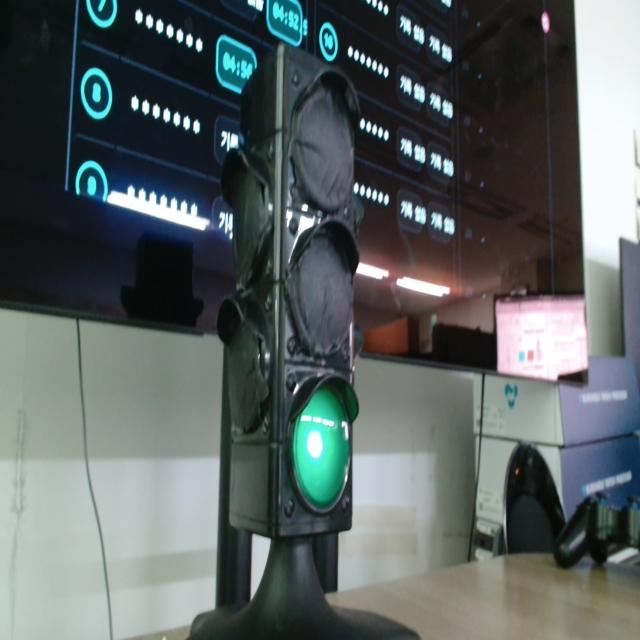green_light: (293, 386, 350, 509)
